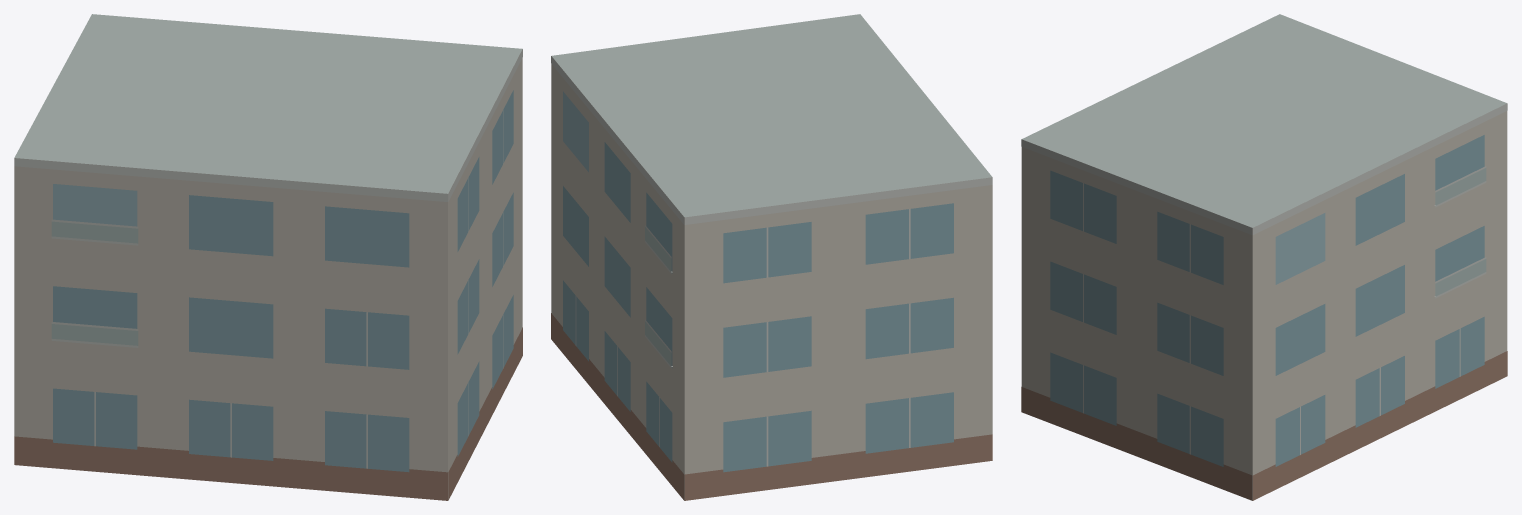
File: survey-upis-32775843.glb
3 views of the same model, side by side, from view 1: azimuth 30°, elevation 25°; view 2: azimuth 150°, elevation 25°; view 3: azimuth 270°, elevation 25° (orthographic). The views are drawn at different scales.
Parts seen in each view (by area): view 1: survey-upis-32775843.tmp; view 2: survey-upis-32775843.tmp; view 3: survey-upis-32775843.tmp.
Part boxes in pixels (x1,y1,x2,y2): survey-upis-32775843.tmp: (14,14,522,500); survey-upis-32775843.tmp: (551,14,992,500); survey-upis-32775843.tmp: (1021,14,1507,500).
Bounding box in the file's own units: 15.14 × 9 × 14.53.
